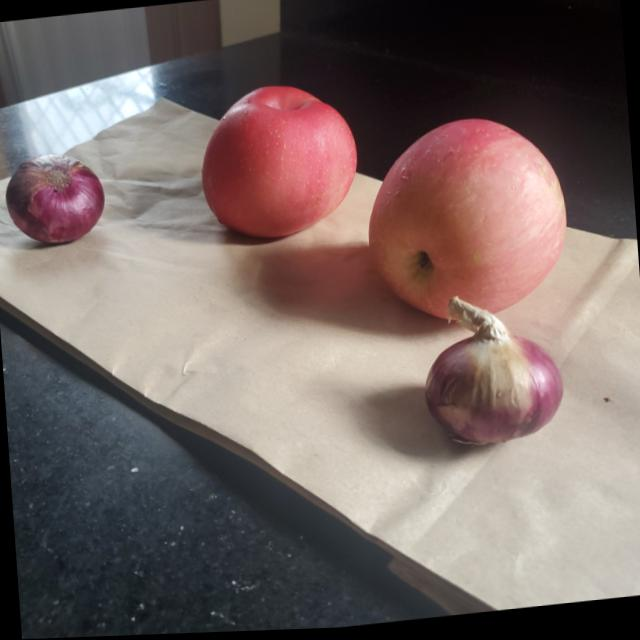apple: (360, 116, 571, 334), (194, 75, 362, 241)
onion: (423, 295, 568, 454), (4, 149, 110, 247)
